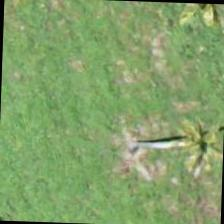Kelapa_Sawit: (154, 92, 224, 186)
